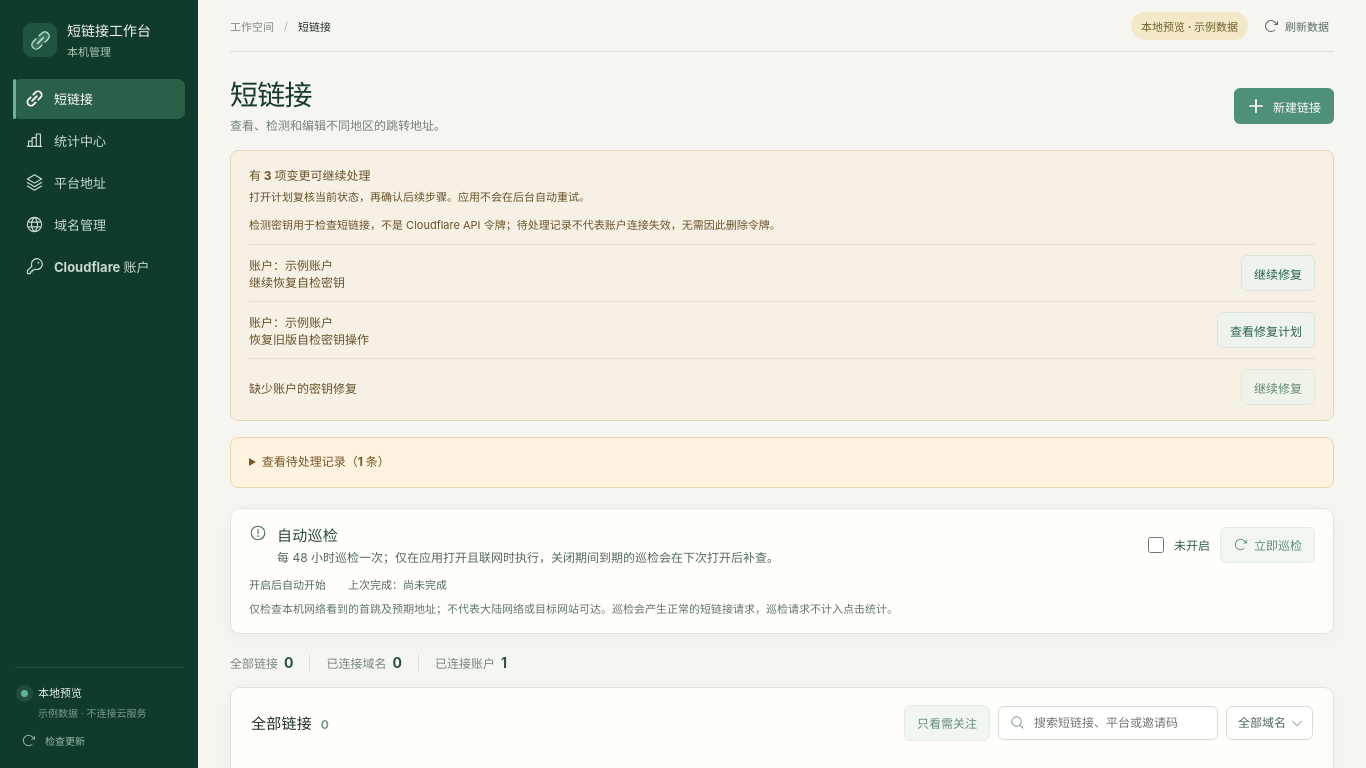
it: keeps the recovery entry after apply failure without retrying automatically and disables a missing account
This screenshot has width=1366, height=768.
Expected: the button "继续修复" in the row of "缺少账户的密钥修复" is disabled, left=1241, top=369, right=1315, bottom=405
Step 1. Click the button "继续修复" in the row of "继续恢复自检密钥" → point(1278, 273), box left=1241, top=255, right=1315, bottom=291
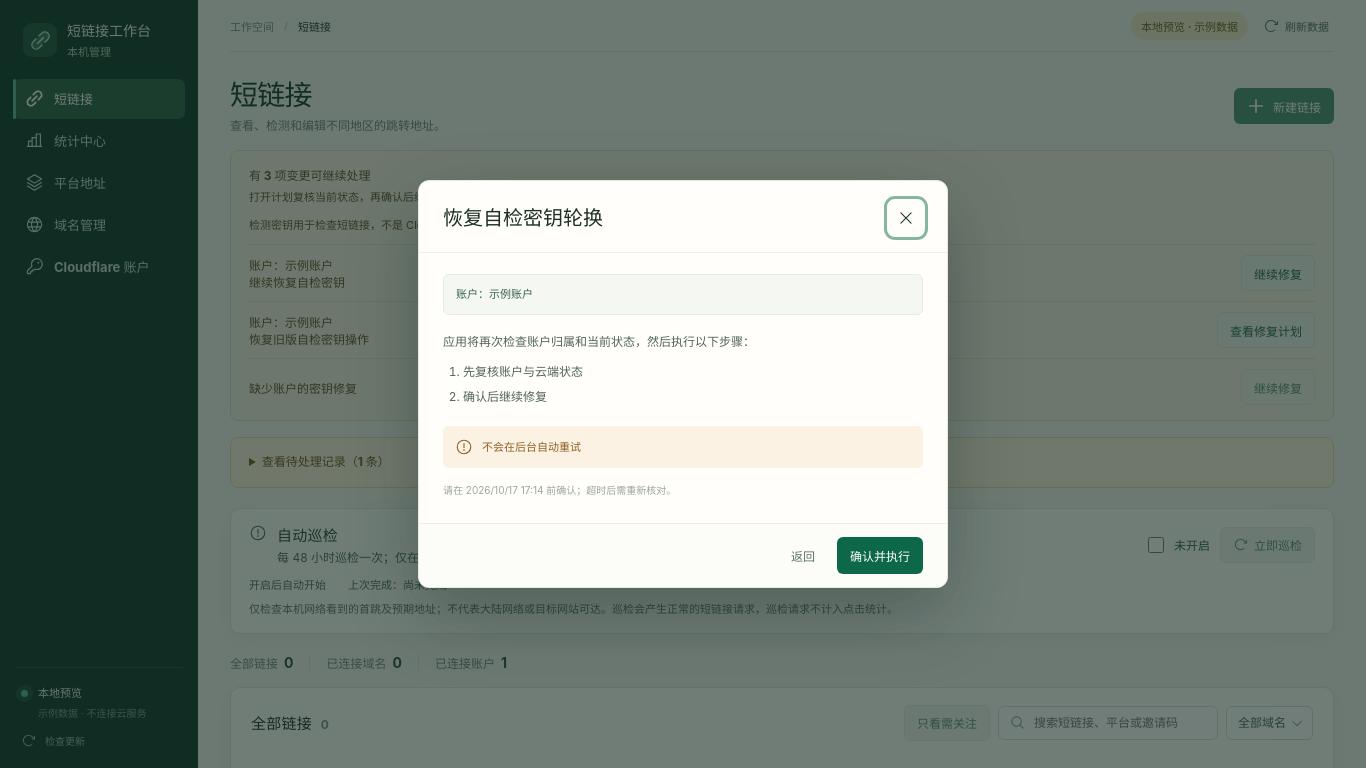
Step 2. Click the button "确认并执行" → point(880, 555), box left=837, top=537, right=923, bottom=574
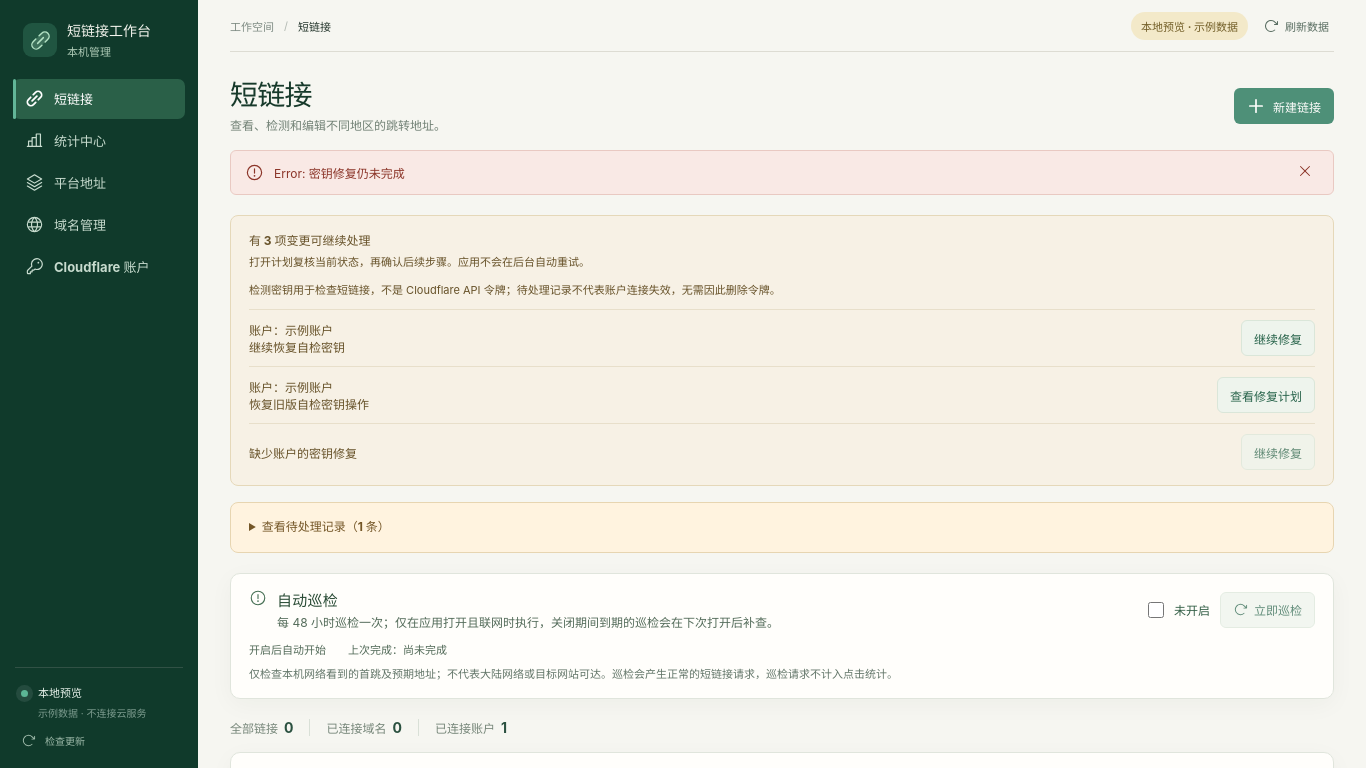
Expected: the text "继续恢复自检密钥" is shown, left=249, top=340, right=345, bottom=355
Now the message shows "密钥修复仍未完成", box left=274, top=166, right=405, bottom=181
